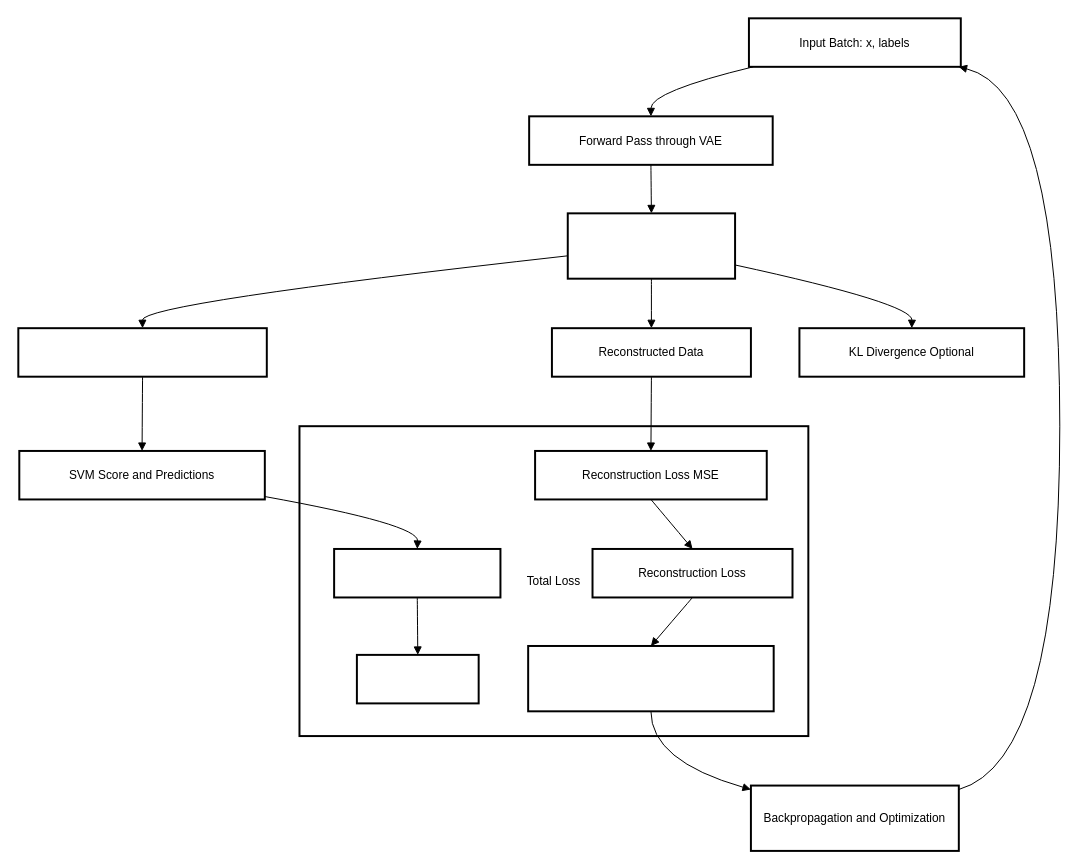
This 1077x868 diagram has some shape labels left out. The shapes that lost their labels are listed below. From the top down, each one's box as (x1, y1, x2, y2) in pixels, then its label:
(566, 212, 736, 279): Latent Space Representation
(17, 327, 267, 377): Train SVM on Latent Space
(333, 547, 501, 598): SVM Hinge Loss
(355, 653, 479, 704): SVM Loss
(527, 644, 774, 712): Total Loss Recon Loss plus SVM Loss
